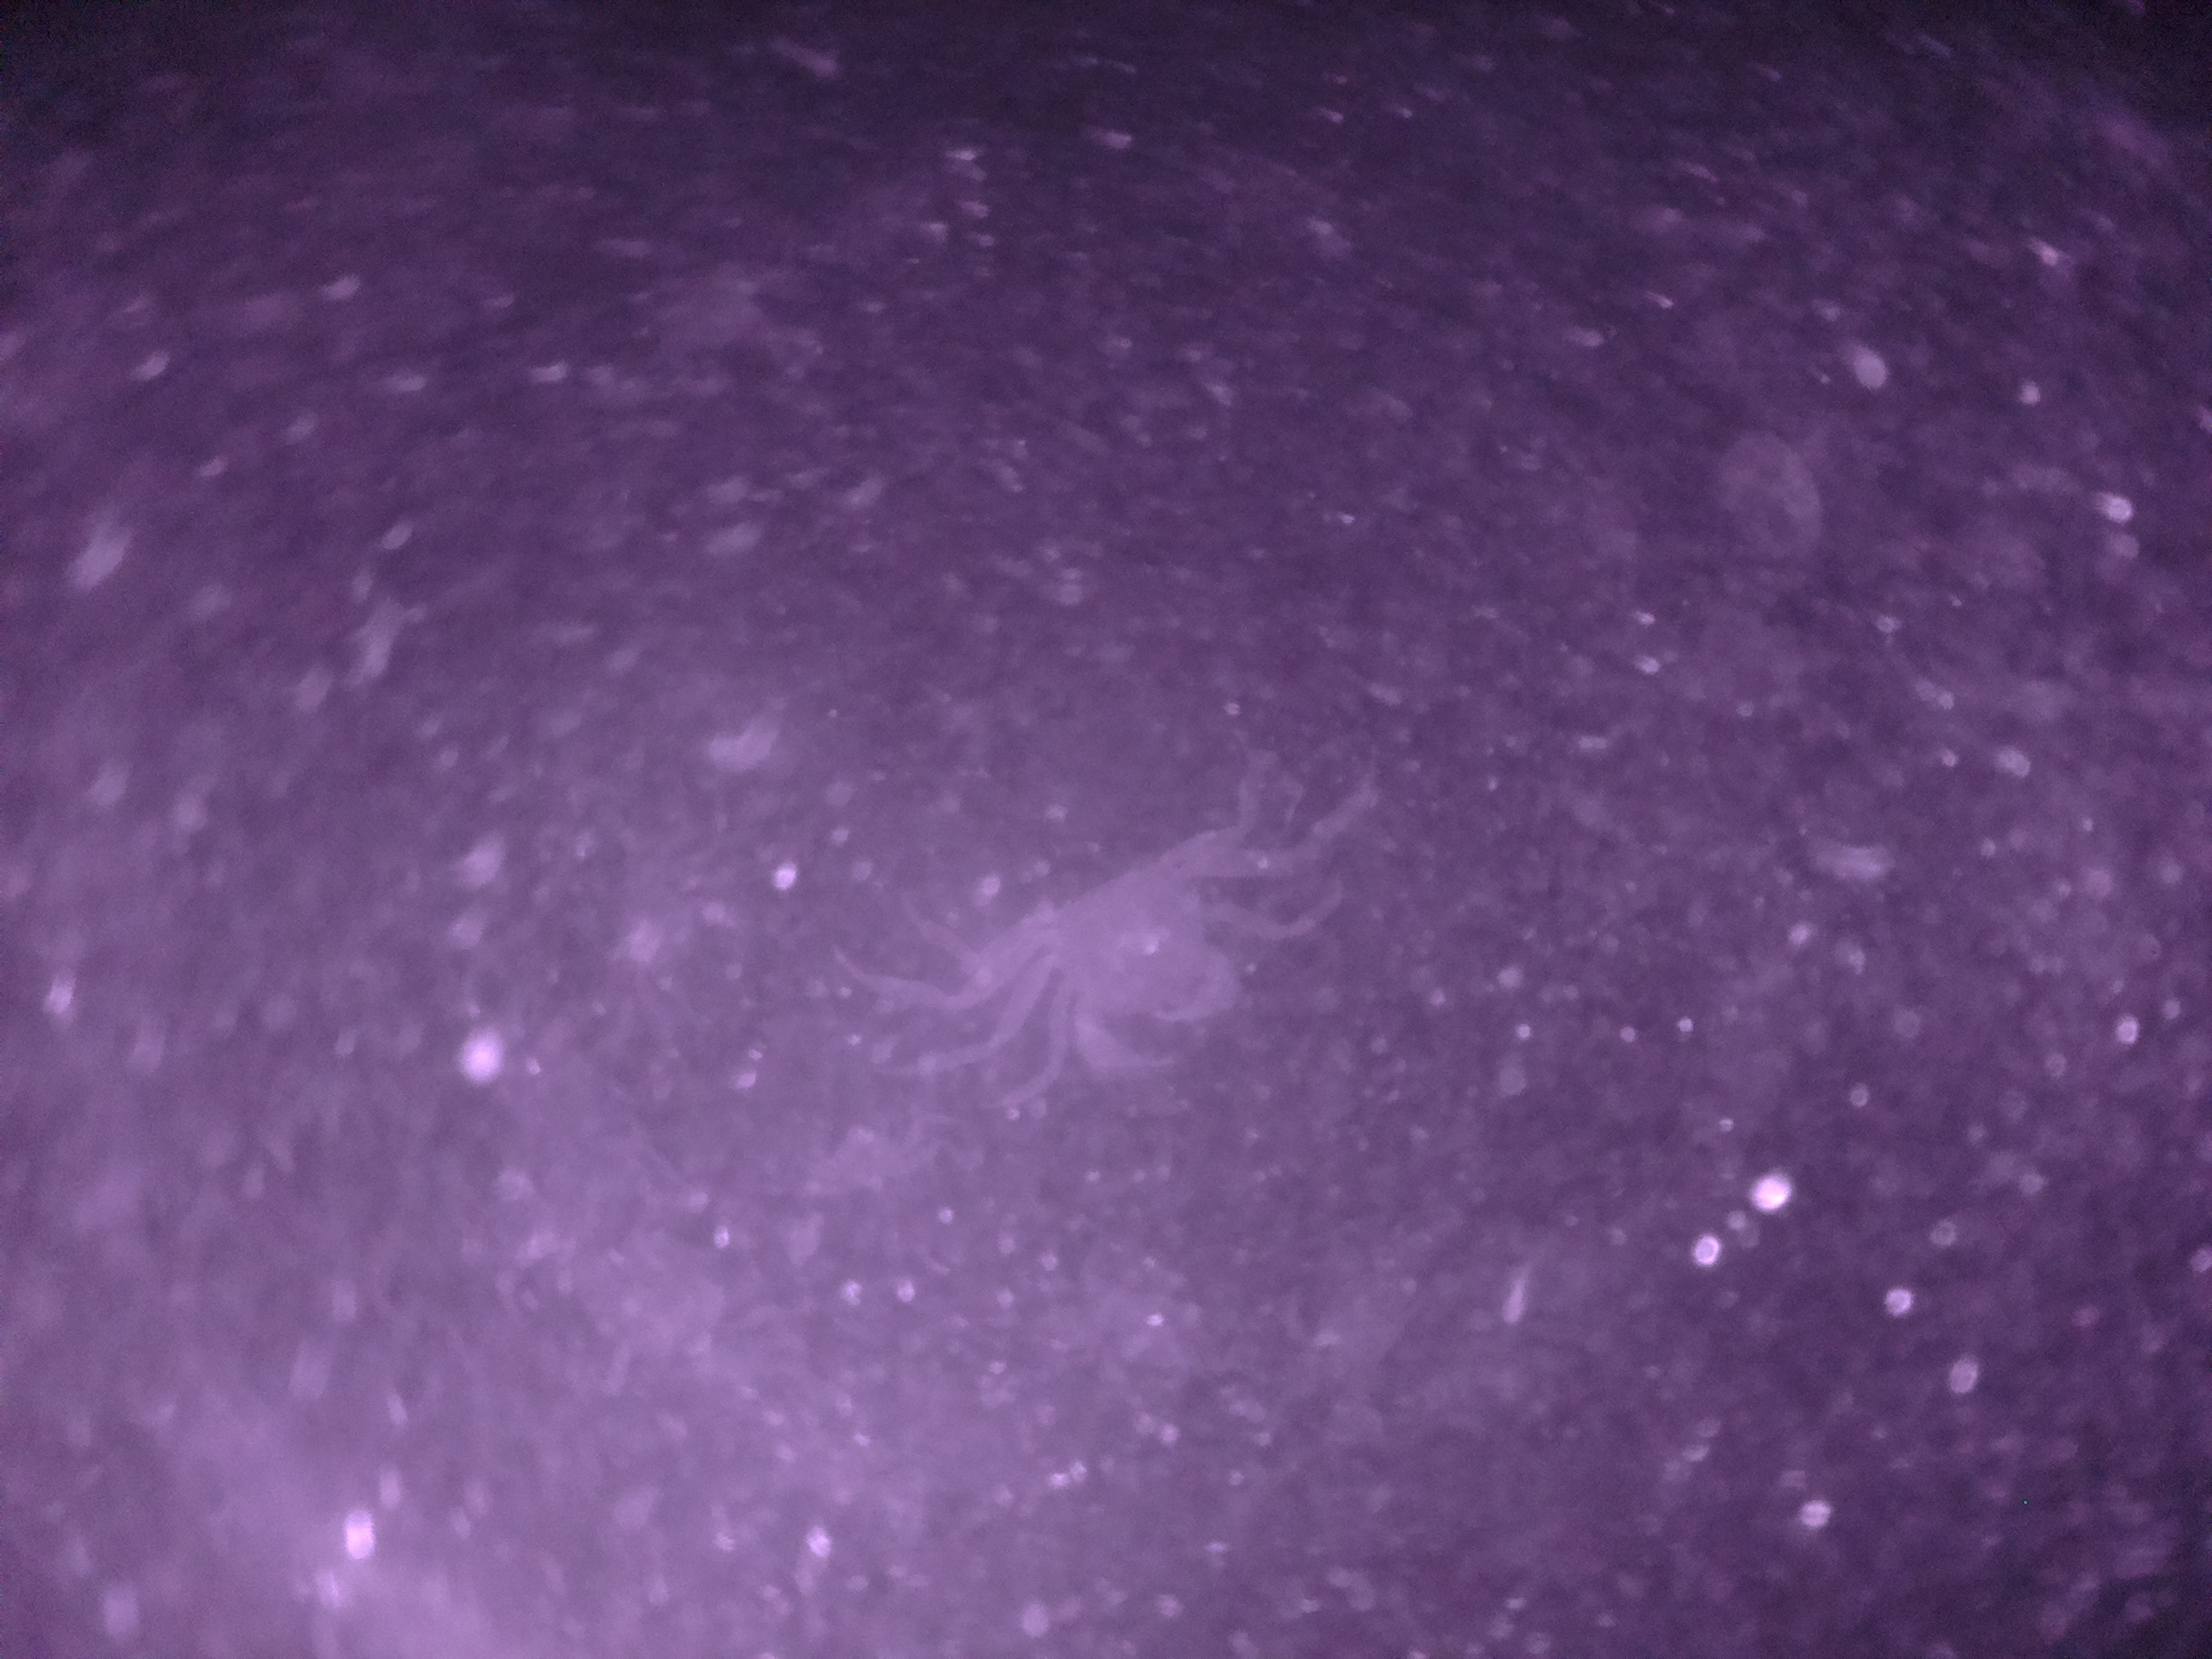Crab: (1010, 819, 1296, 1098)
